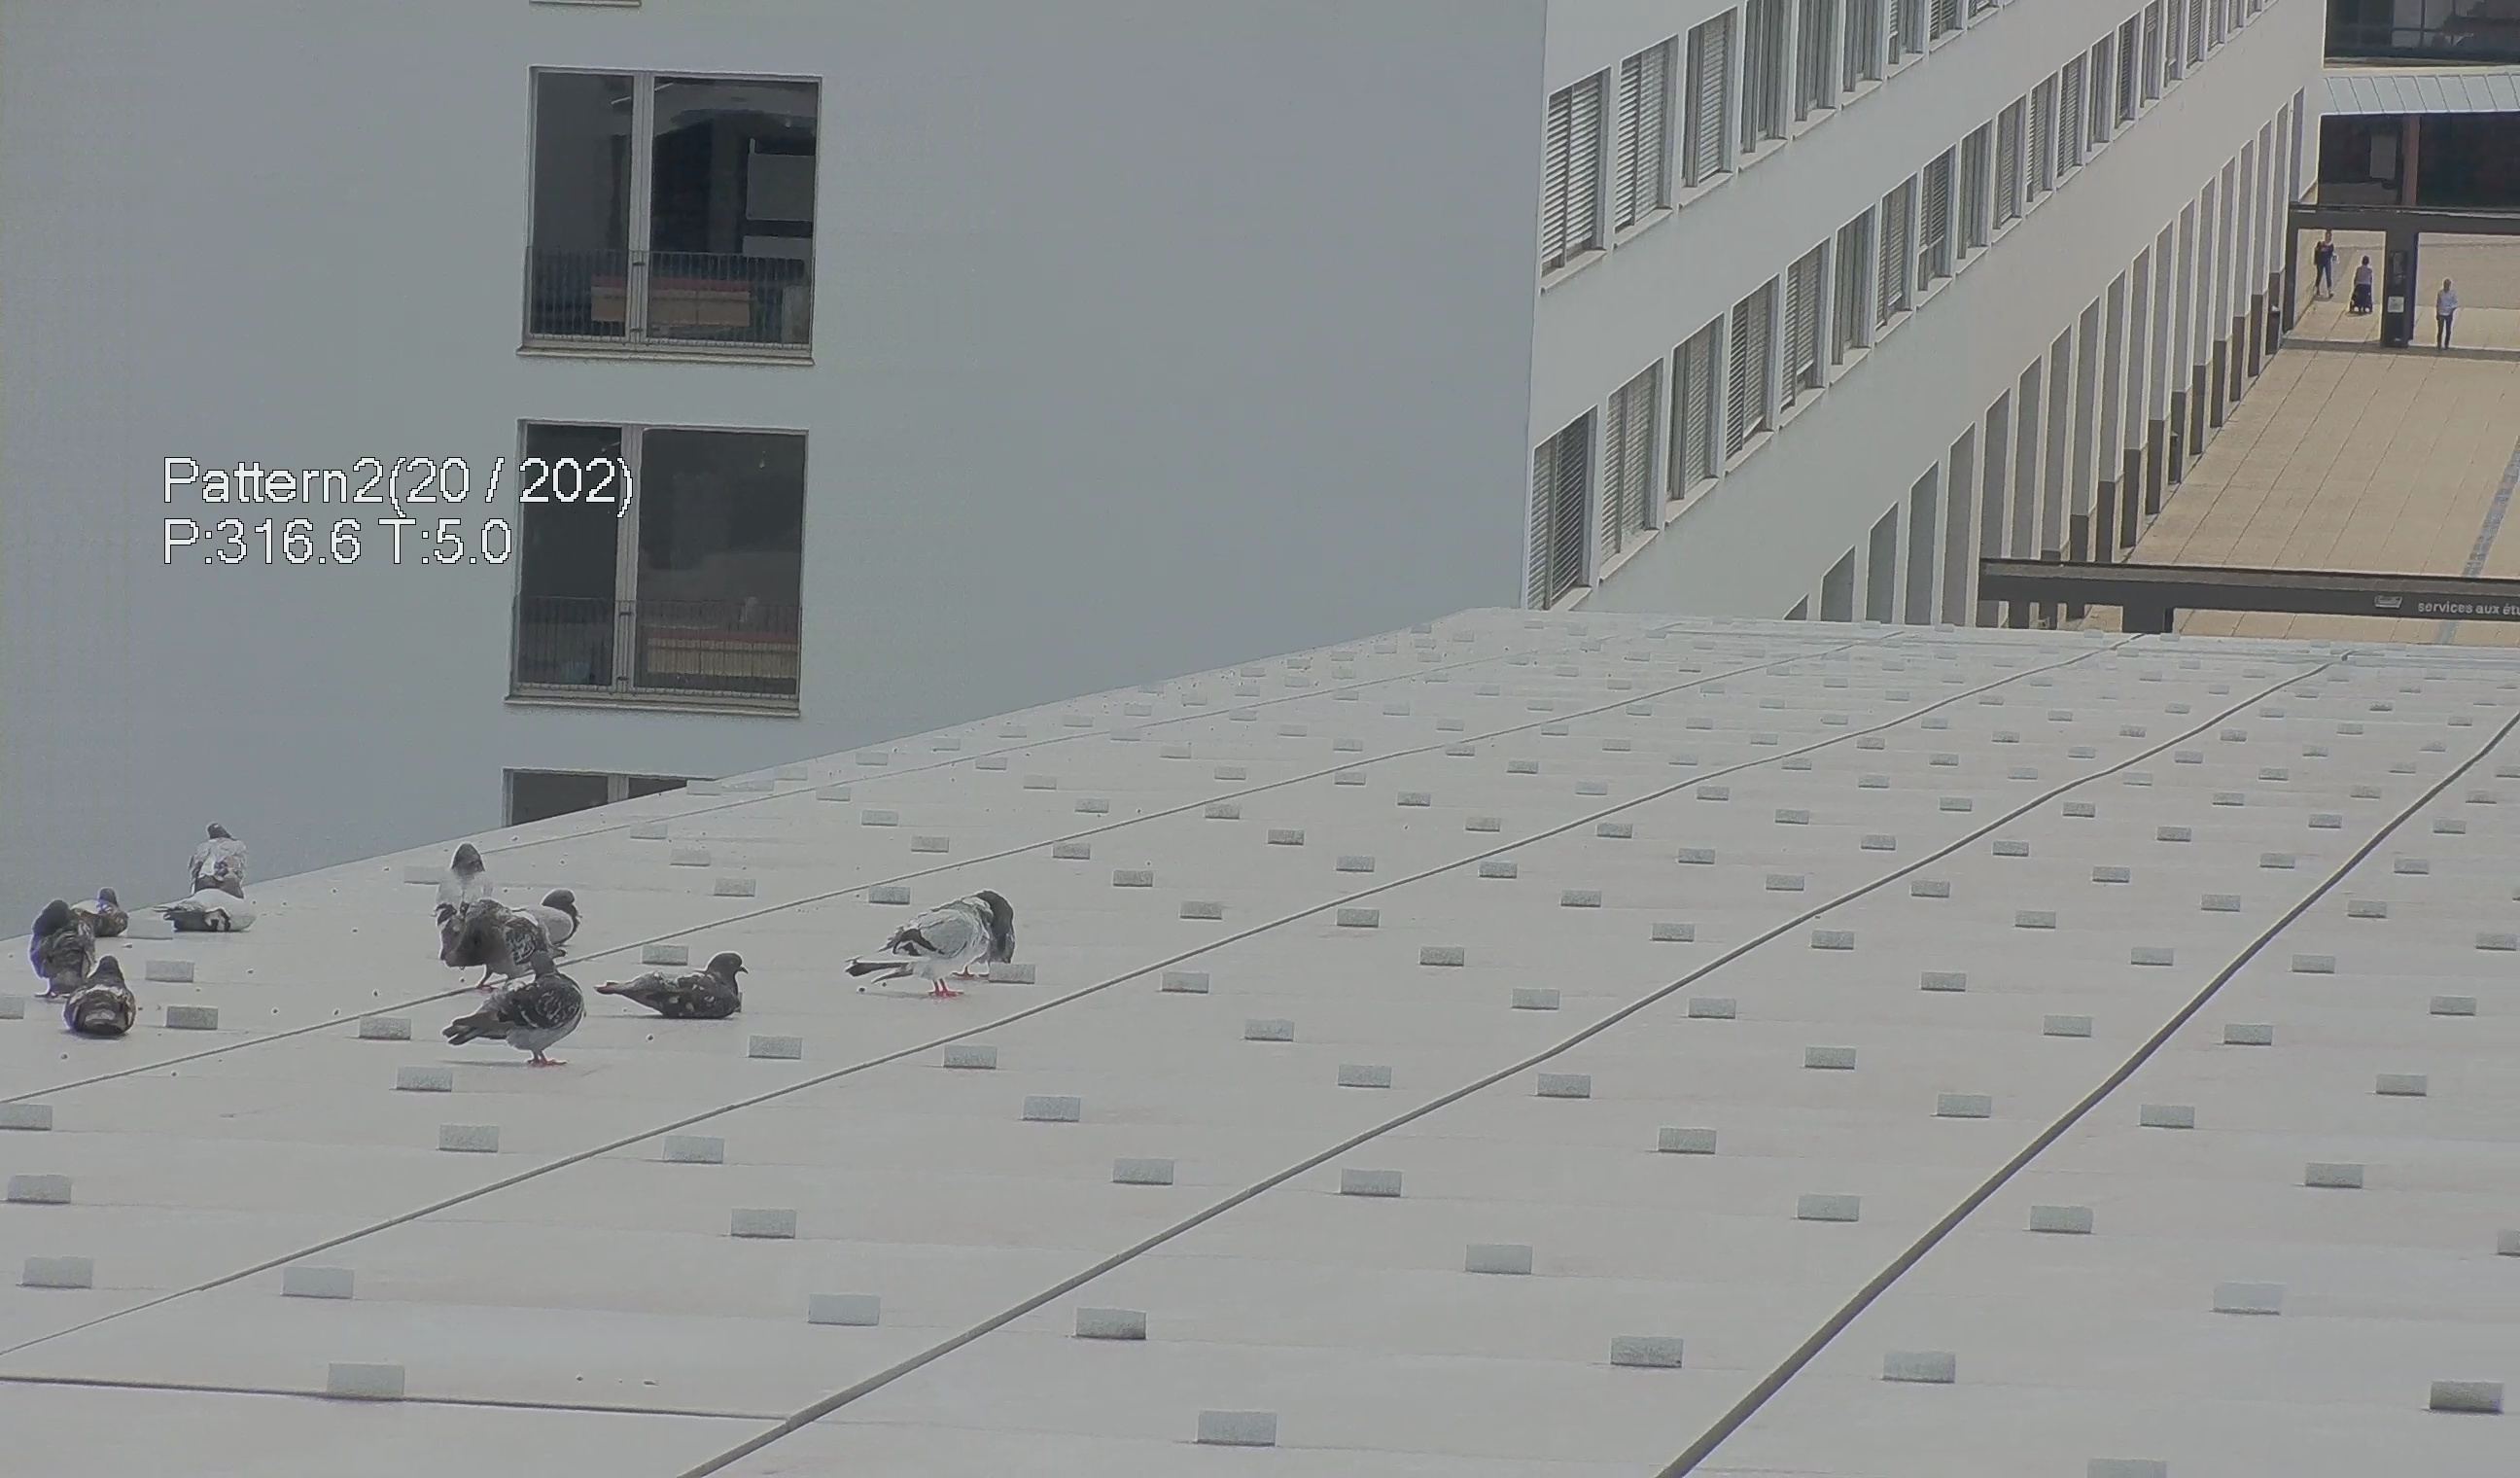Pigeon: (846, 889, 1022, 1003), (429, 954, 586, 1075), (594, 943, 744, 1038), (462, 901, 575, 996), (14, 899, 100, 994), (157, 869, 269, 940), (62, 954, 141, 1036), (186, 816, 255, 910), (526, 876, 596, 957), (429, 841, 492, 924), (69, 887, 130, 940)
